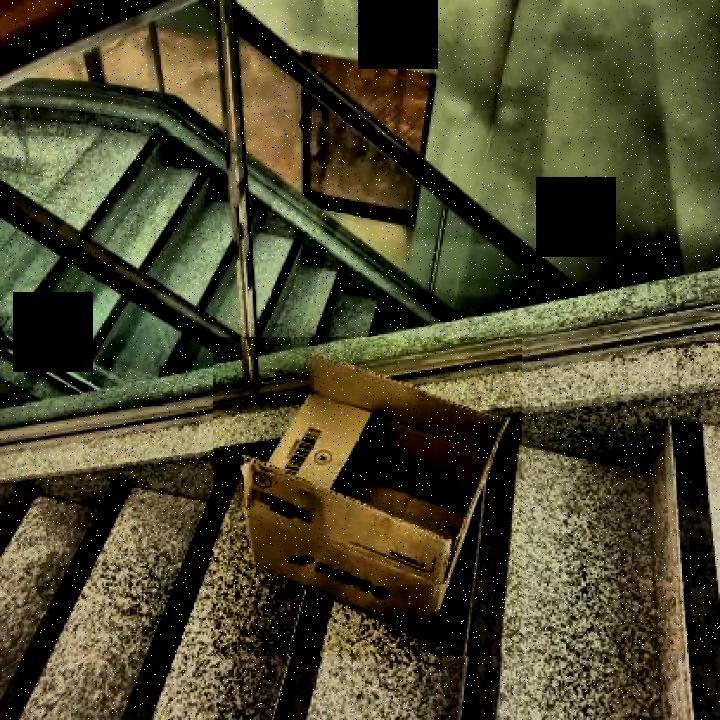box: (213, 338, 524, 658)
